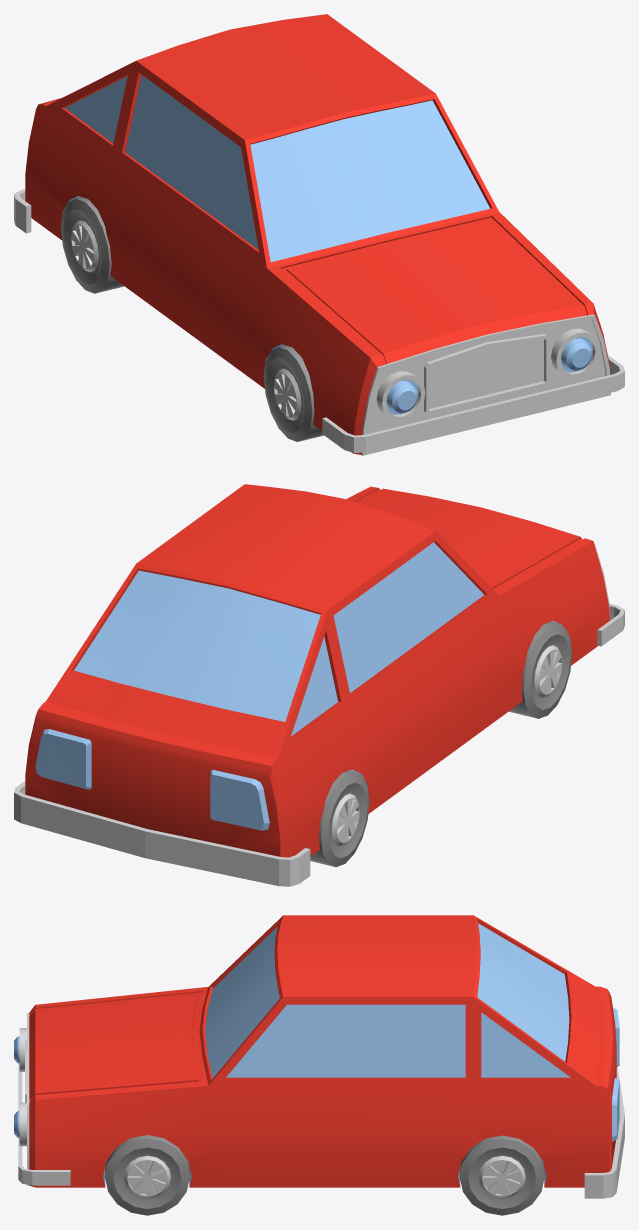
File: P_Car_01.dae
3 renders of one model, top to bottom at view 1: azimuth 30°, elevation 25°; view 2: azimuth 150°, elevation 25°; view 3: azimuth 270°, elevation 25°, orthographic. The views are drawn at different scales.
Parts seen in each view (by area): view 1: Car, Cylinder.001; view 2: Car, Cylinder.001; view 3: Car, Cylinder.001.
Boxes of the visible parts, box(x1,y1,x2,y2) form: Car: box(14, 14, 624, 455); Cylinder.001: box(61, 197, 323, 441); Car: box(14, 484, 624, 886); Cylinder.001: box(310, 622, 572, 867); Car: box(14, 915, 624, 1198); Cylinder.001: box(105, 1135, 544, 1215).
Size of the model in its own units: 2.82 by 5.99 by 2.27.
